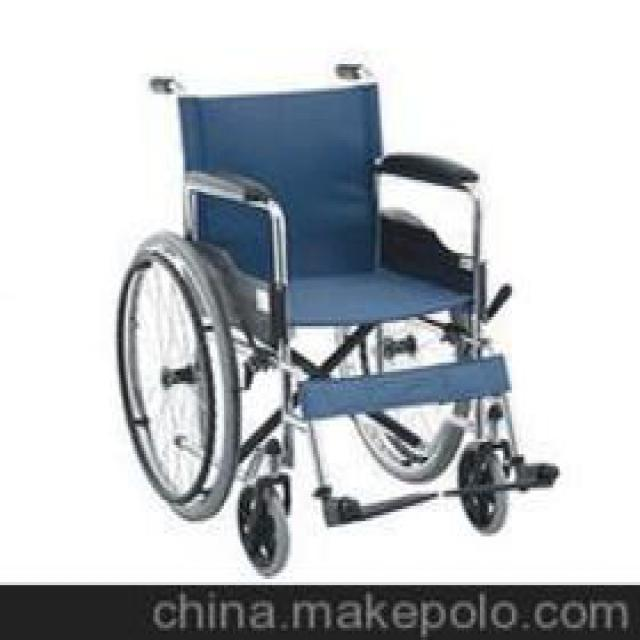wheelchair: (112, 45, 560, 582)
